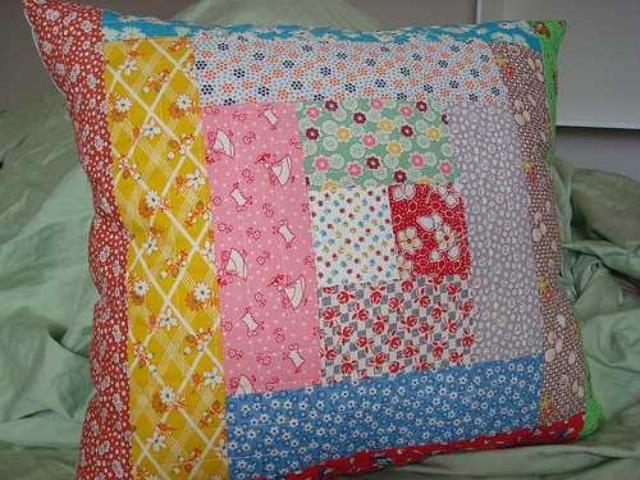pillow: (19, 1, 596, 478)
